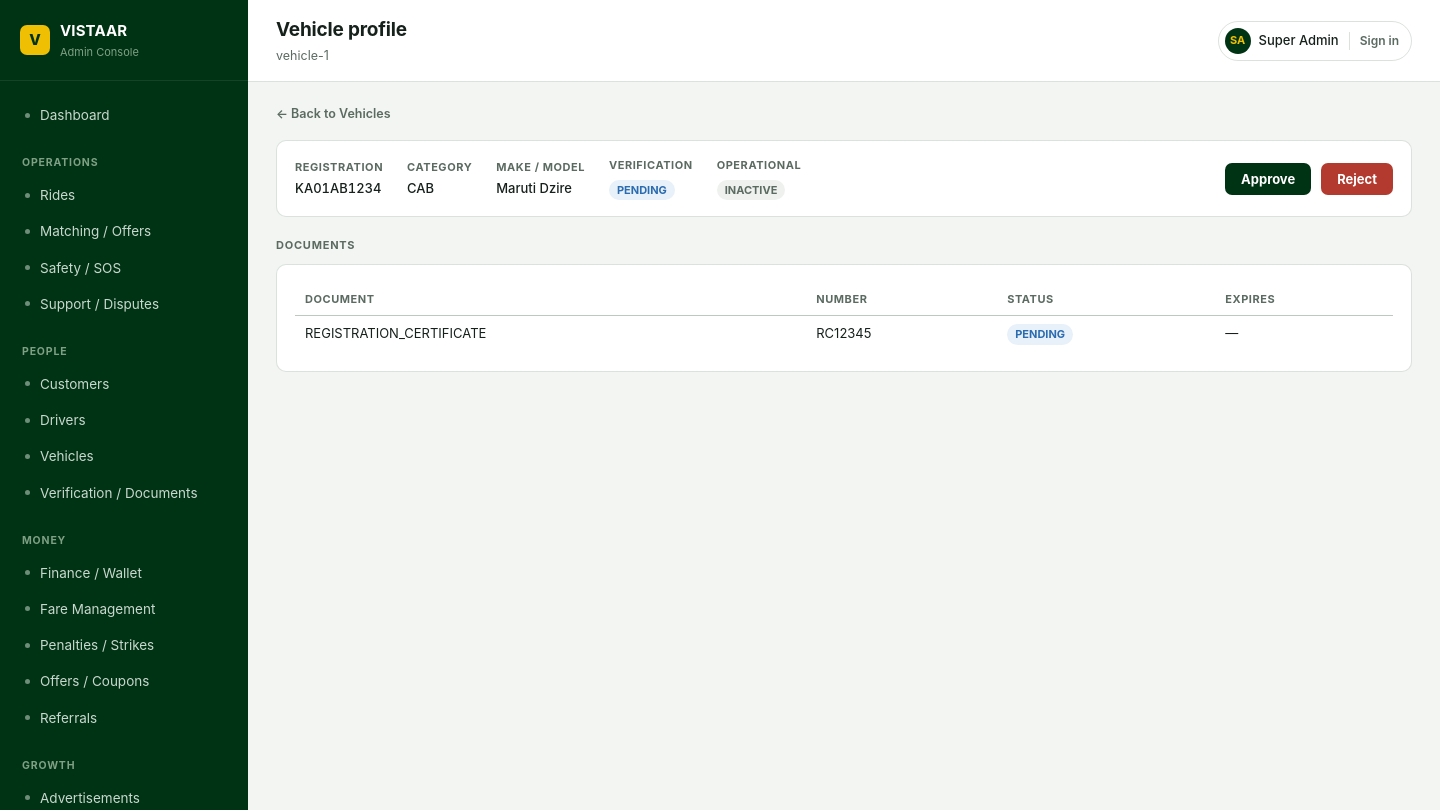
Test: VehicleDetailPage › approves a pending vehicle
Click the button "Approve".
click(1268, 178)  # box [1225,162,1311,194]
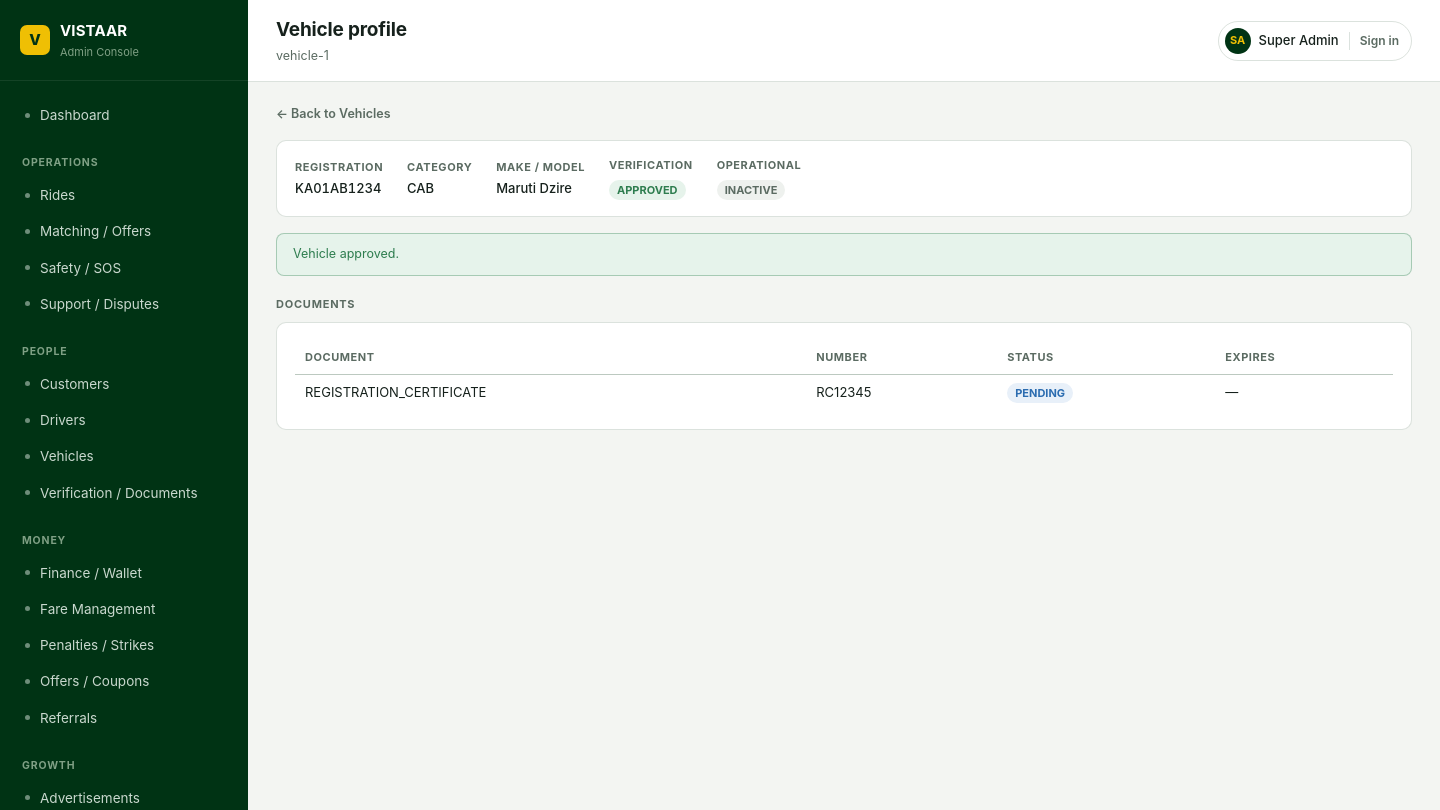
Now the text "Vehicle approved." is shown, box [276,233,1412,276]
